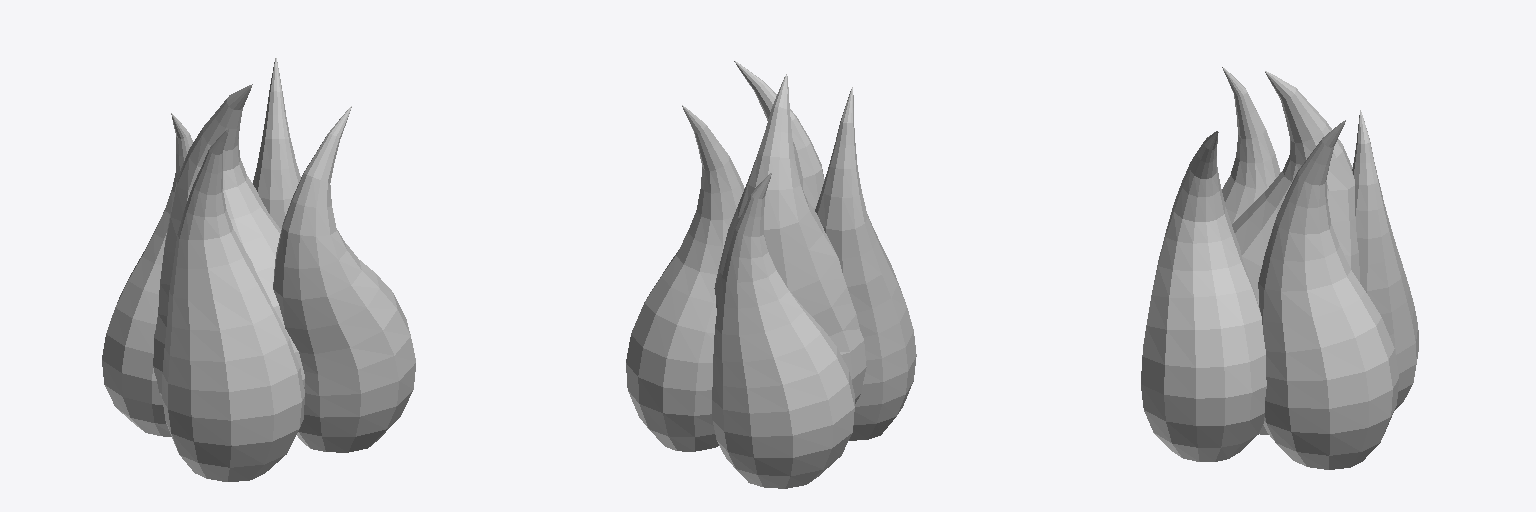
Rendered from fire_000010.obj.
The picture shows the model from 3 angles: view 1: azimuth 30°, elevation 25°; view 2: azimuth 150°, elevation 25°; view 3: azimuth 270°, elevation 25°; orthographic projection.
Parts seen in each view (by area): view 1: flame_NurbsPath.015; view 2: flame_NurbsPath.015; view 3: flame_NurbsPath.015.
Part boxes in pixels (x1,y1,x2,y2): flame_NurbsPath.015: (102, 58, 415, 481); flame_NurbsPath.015: (626, 61, 916, 488); flame_NurbsPath.015: (1141, 67, 1418, 469).
Size of the model in its own units: 0.7552 by 1.14 by 0.7984.